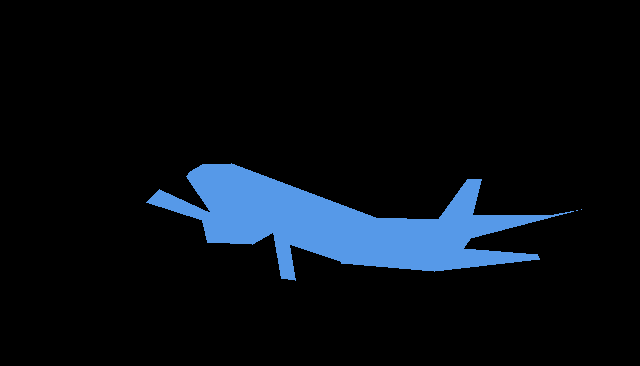Airplane: (146, 163, 581, 280)
